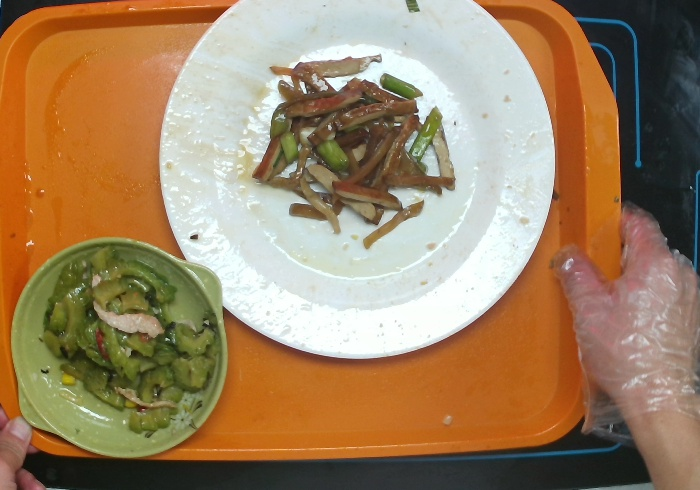NLDX-Da_Yuan_Pan: (155, 1, 556, 365)
NLDX-Lv_Hua_Shuang_Er_Die: (8, 235, 233, 463)
